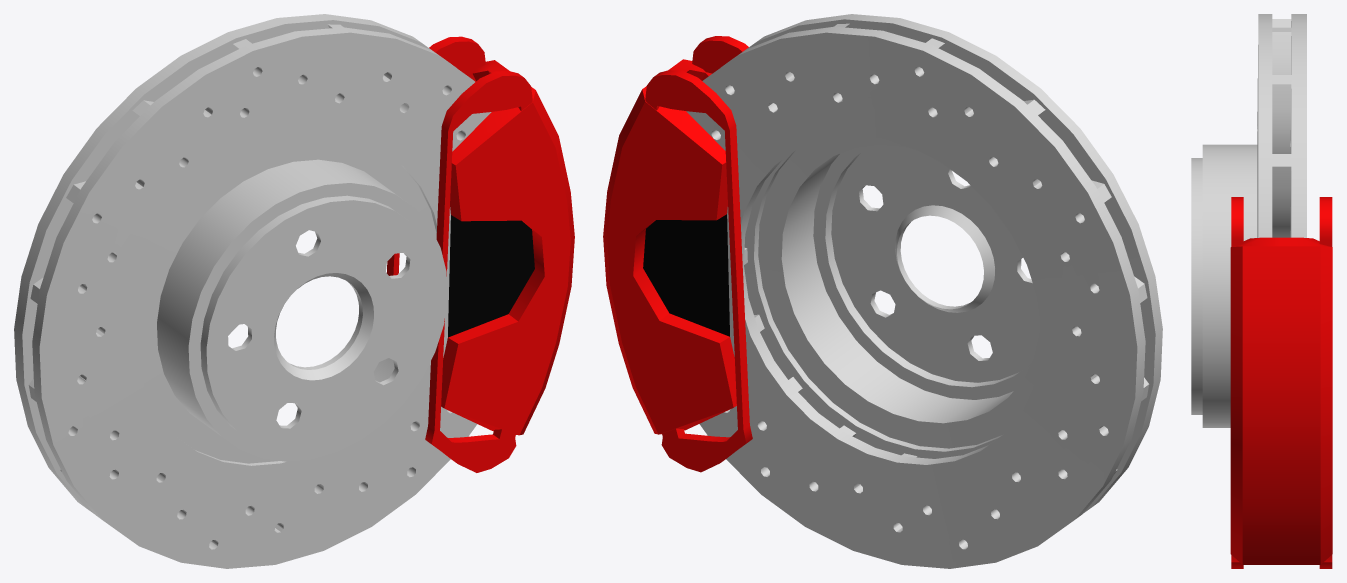
3 renders of one model, left to right at view 1: azimuth 30°, elevation 25°; view 2: azimuth 150°, elevation 25°; view 3: azimuth 270°, elevation 25°, orthographic. The views are drawn at different scales.
Parts seen in each view (by area): view 1: Disk, Caliper; view 2: Disk, Caliper; view 3: Caliper, Disk.
Part boxes in pixels (bbox=[...]): Disk: bbox=[14, 14, 491, 568]; Caliper: bbox=[386, 36, 574, 472]; Disk: bbox=[686, 14, 1162, 568]; Caliper: bbox=[603, 36, 752, 472]; Caliper: bbox=[1230, 197, 1332, 568]; Disk: bbox=[1191, 14, 1306, 427].
Size of the model in its own units: 0.3684 by 0.3484 by 0.09.
